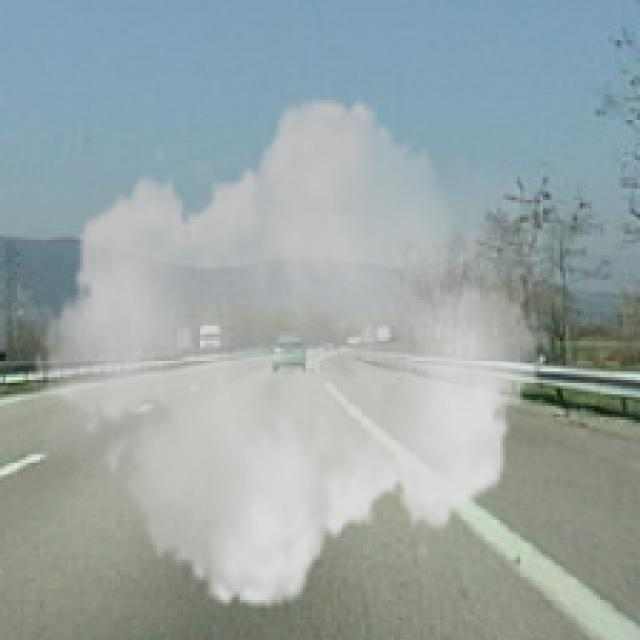smoke: (31, 77, 552, 629)
